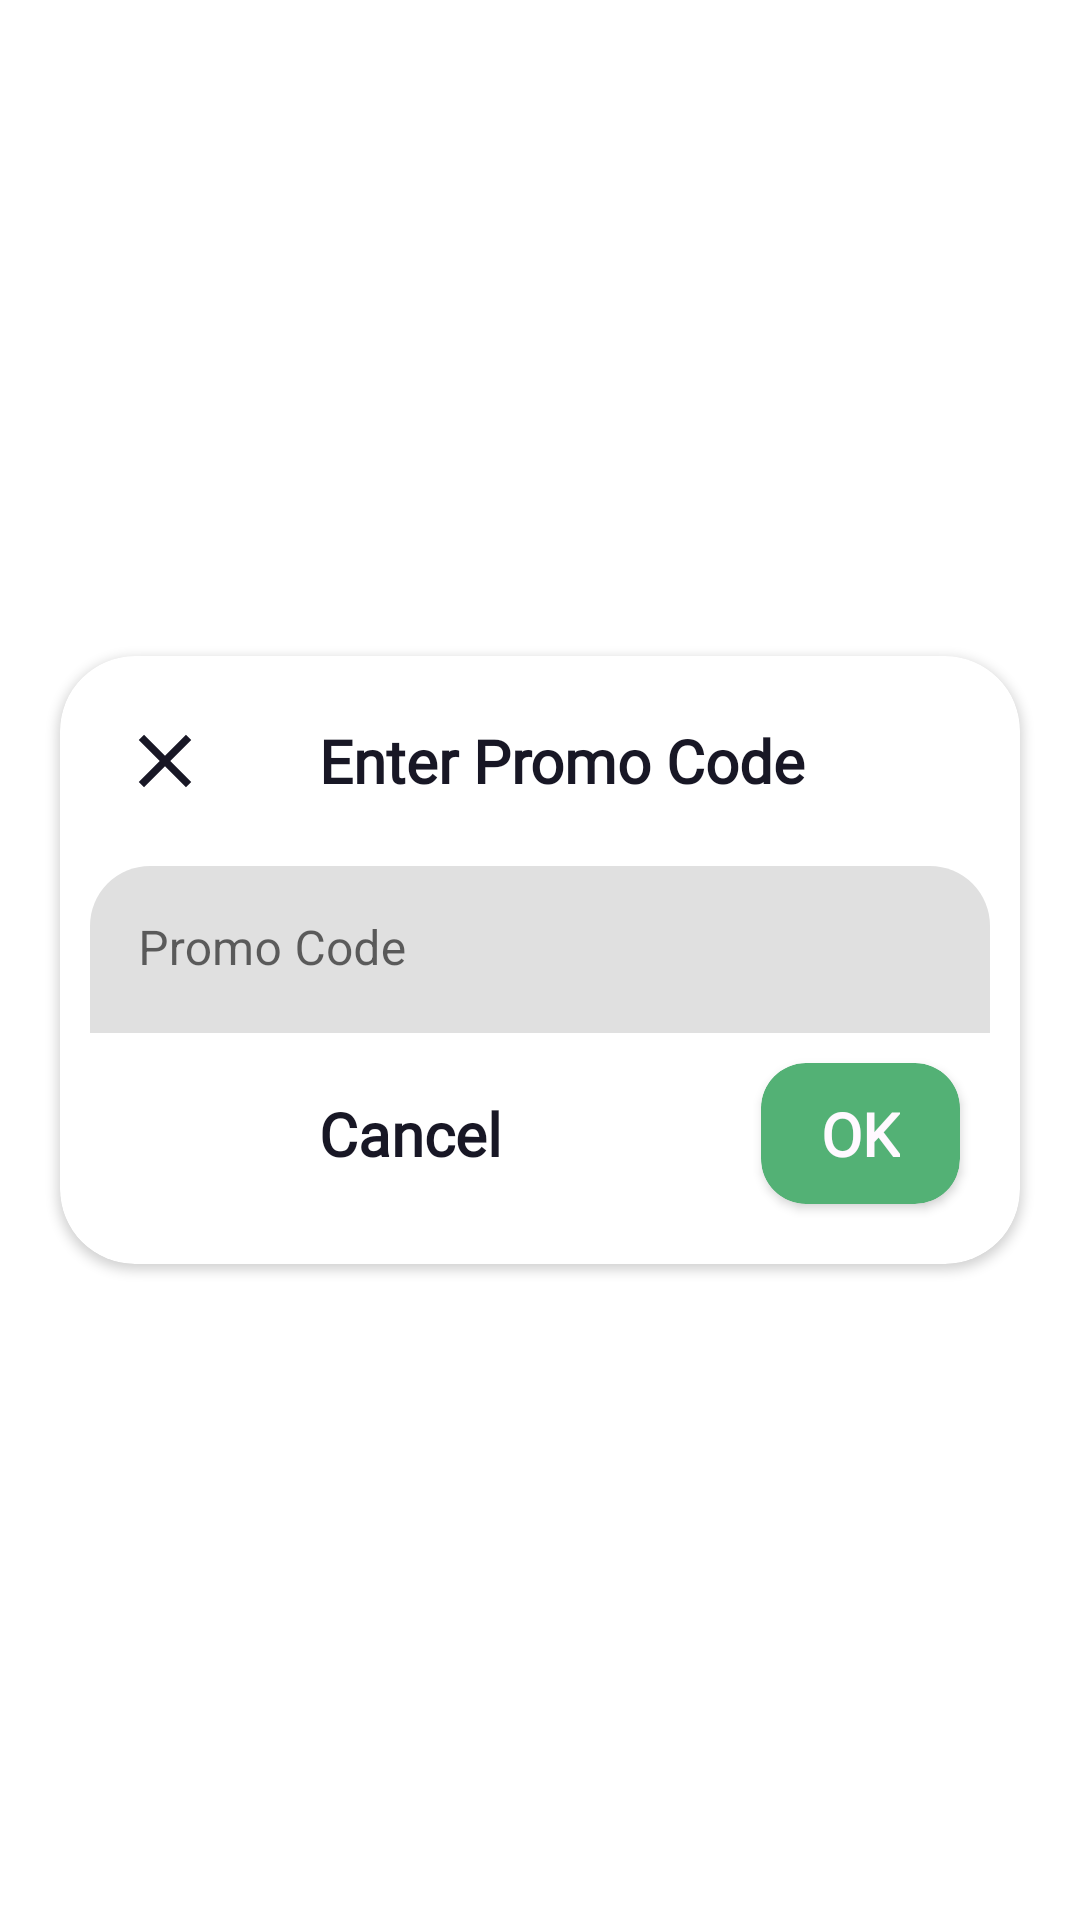

Point at icon controls on the screen. Image size 1080px x 1920px, points as (x,y).
close: (165,761)
